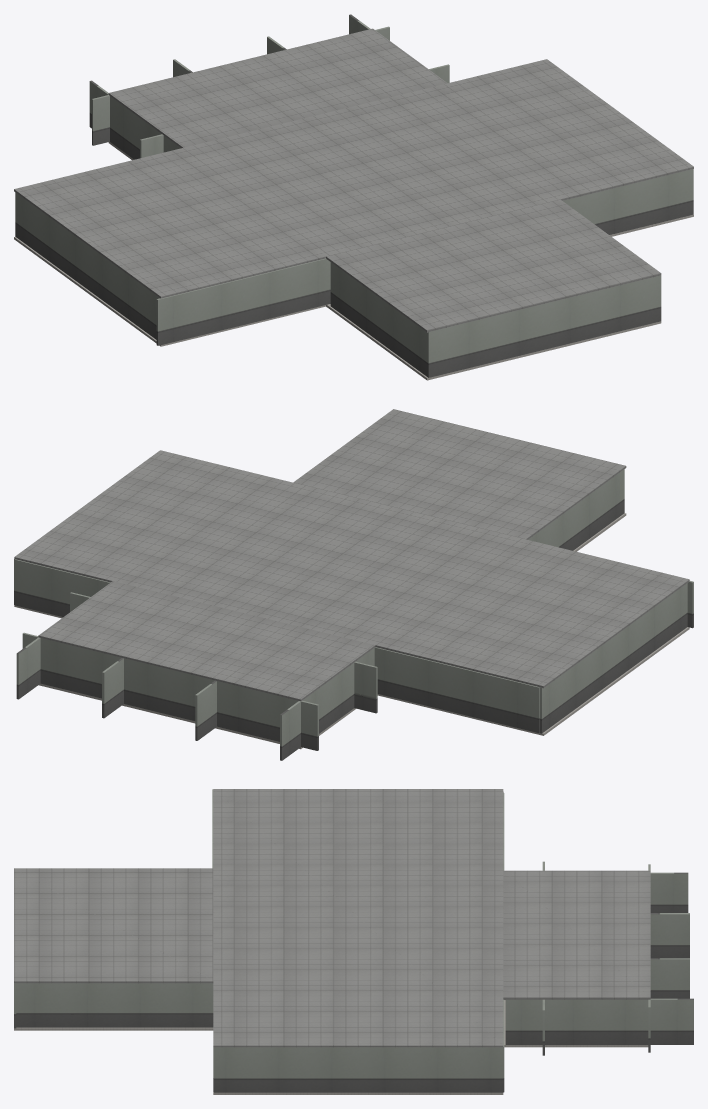
Rendered from HospitalFinal.fbx.
The picture shows the model from 3 angles, top to bottom: view 1: azimuth 30°, elevation 25°; view 2: azimuth 150°, elevation 25°; view 3: azimuth 270°, elevation 25°; orthographic projection.
Visible parts, largest first — view 1: Techo_01, Muro_01, Muro_07, Muro_11, Muro_09, Muro_02, Piso_01, Muro_29, Muro_38; view 2: Techo_01, Muro_38, Muro_30, Muro_11, Muro_02, Muro_31, Muro_29, Piso_01, Muro_32, Muro_33, Muro_36, Muro_35; view 3: Techo_01, Muro_12, Muro_03, Muro_32, Piso_01, Muro_35, Muro_36, Muro_29.
Boxes of the visible parts, bbox=[...] form: Techo_01: bbox=[14, 28, 693, 332]; Muro_01: bbox=[429, 275, 661, 377]; Muro_07: bbox=[156, 258, 330, 345]; Muro_11: bbox=[15, 192, 159, 339]; Muro_09: bbox=[563, 169, 692, 234]; Muro_02: bbox=[330, 262, 429, 377]; Piso_01: bbox=[14, 142, 693, 380]; Muro_29: bbox=[89, 80, 180, 159]; Muro_38: bbox=[92, 26, 389, 145]; Techo_01: bbox=[14, 409, 689, 701]; Muro_38: bbox=[22, 632, 318, 750]; Muro_30: bbox=[374, 647, 539, 732]; Muro_11: bbox=[539, 583, 687, 733]; Muro_02: bbox=[528, 469, 624, 550]; Muro_31: bbox=[14, 559, 110, 616]; Muro_29: bbox=[280, 648, 374, 760]; Piso_01: bbox=[14, 513, 689, 749]; Muro_32: bbox=[16, 637, 40, 699]; Muro_33: bbox=[354, 661, 377, 713]; Muro_36: bbox=[102, 658, 123, 718]; Muro_35: bbox=[195, 680, 216, 740]; Techo_01: bbox=[14, 789, 650, 1047]; Muro_12: bbox=[214, 1047, 503, 1092]; Muro_03: bbox=[16, 983, 213, 1027]; Muro_32: bbox=[505, 998, 693, 1044]; Piso_01: bbox=[14, 1000, 648, 1094]; Muro_35: bbox=[650, 913, 689, 958]; Muro_36: bbox=[650, 958, 689, 998]; Muro_29: bbox=[650, 872, 688, 912].
Bounding box in the file's own units: 12651 × 1129 × 14078.
3 materials, 3 textured.
